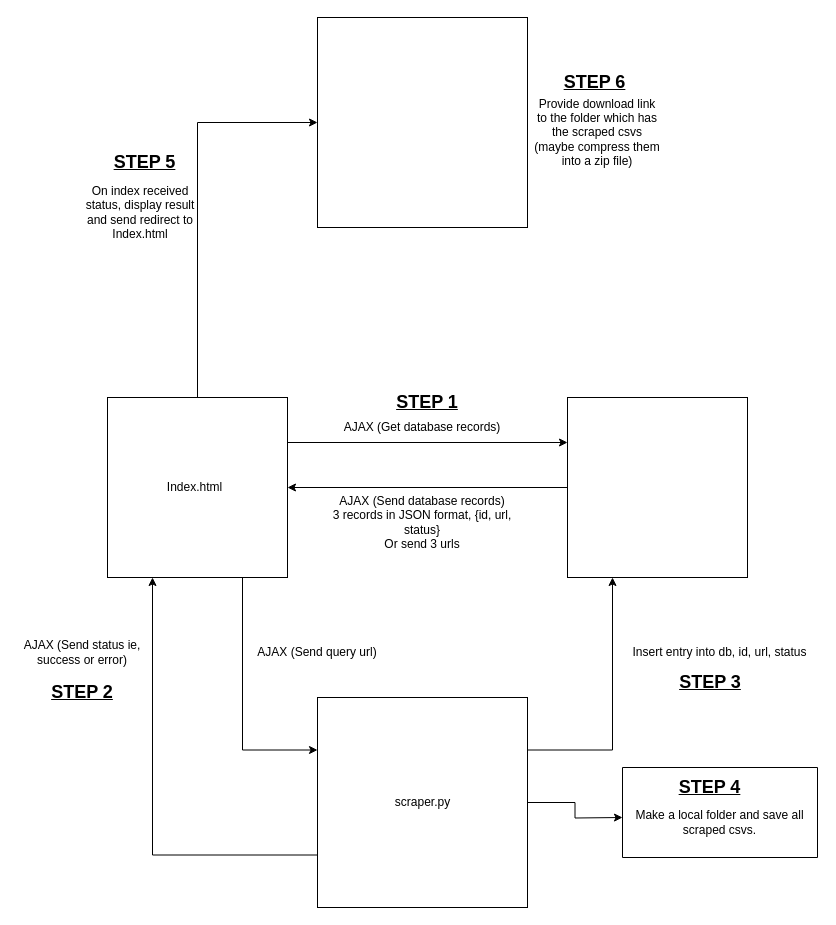
This 836x925 diagram has some shape labels left out. The centre of each missing label's shape, as x and y in pixels:
"Python database Contains ID and URL" goes at point (657, 487).
"Result.html" goes at point (422, 122).
